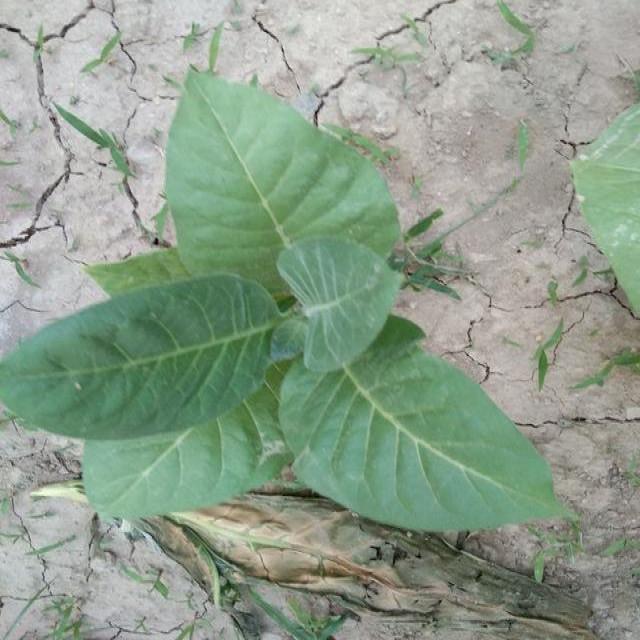crop: (0, 66, 572, 549)
